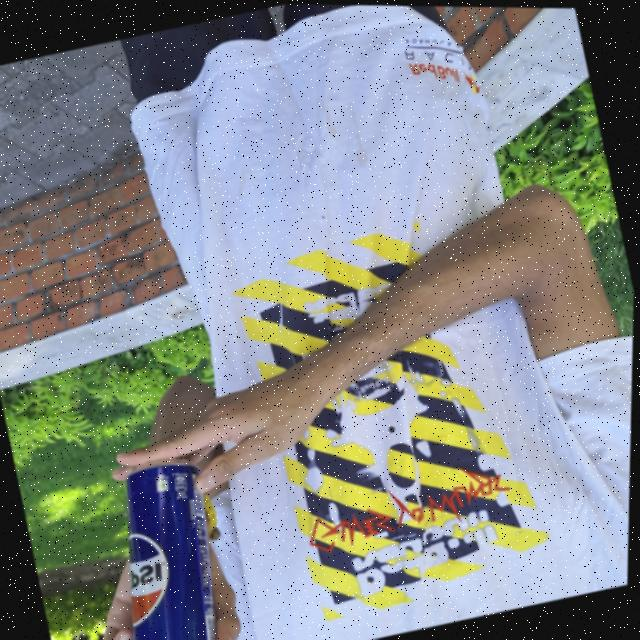Pepsi: (94, 455, 253, 640)
